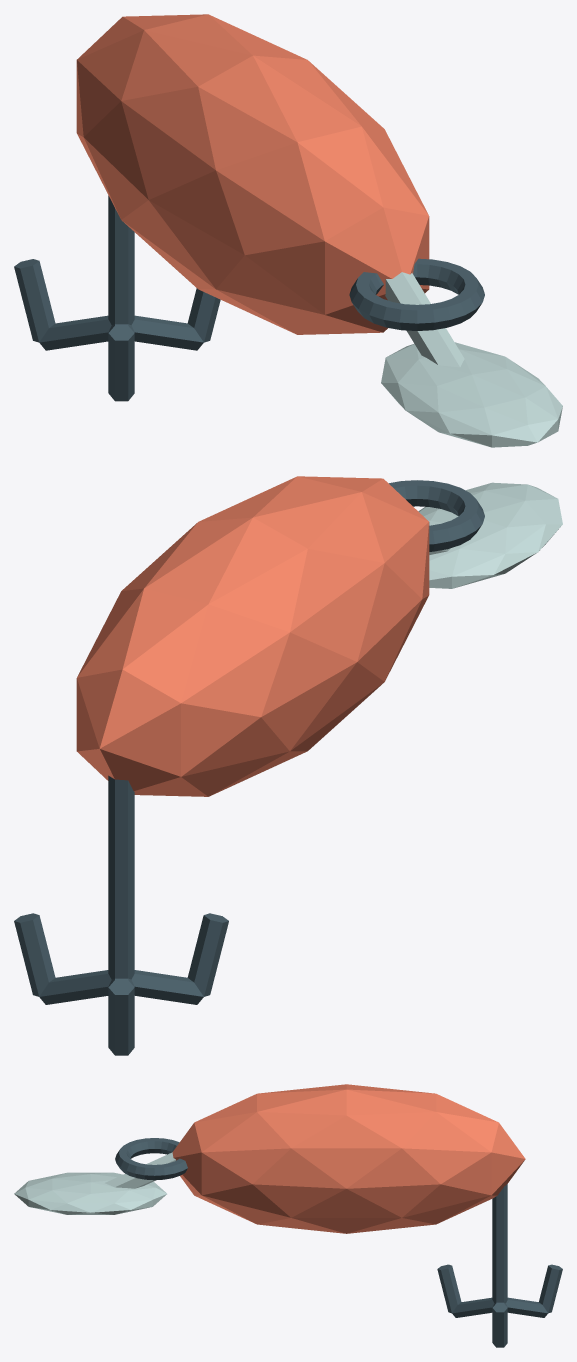
The model's file is spinner_lure_quiet_lake_fishing_22413.glb.
3 renders of one model, top to bottom at view 1: azimuth 30°, elevation 25°; view 2: azimuth 150°, elevation 25°; view 3: azimuth 270°, elevation 25°, orthographic. The views are drawn at different scales.
Parts seen in each view (by area): view 1: coral, iron, silver; view 2: coral, iron, silver; view 3: coral, iron, silver.
Part boxes in pixels (left/top/right/bottom): coral: left=76, top=14, right=429, bottom=334; iron: left=14, top=195, right=484, bottom=401; silver: left=381, top=272, right=562, bottom=447; coral: left=76, top=476, right=429, bottom=796; iron: left=14, top=480, right=484, bottom=1055; silver: left=418, top=482, right=562, bottom=588; coral: left=172, top=1084, right=525, bottom=1233; iron: left=115, top=1138, right=562, bottom=1347; silver: left=14, top=1152, right=175, bottom=1214.
Size of the model in its own units: 0.11 by 0.2049 by 0.4291.
